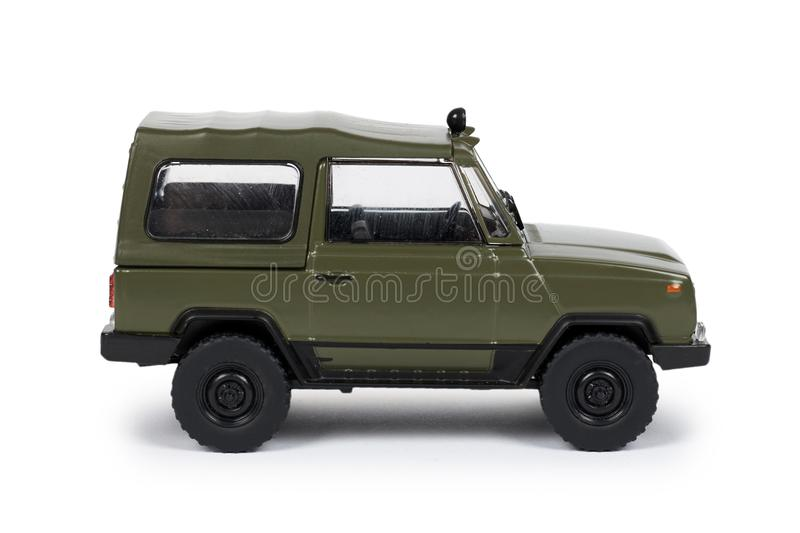jeep: (107, 114, 710, 455)
